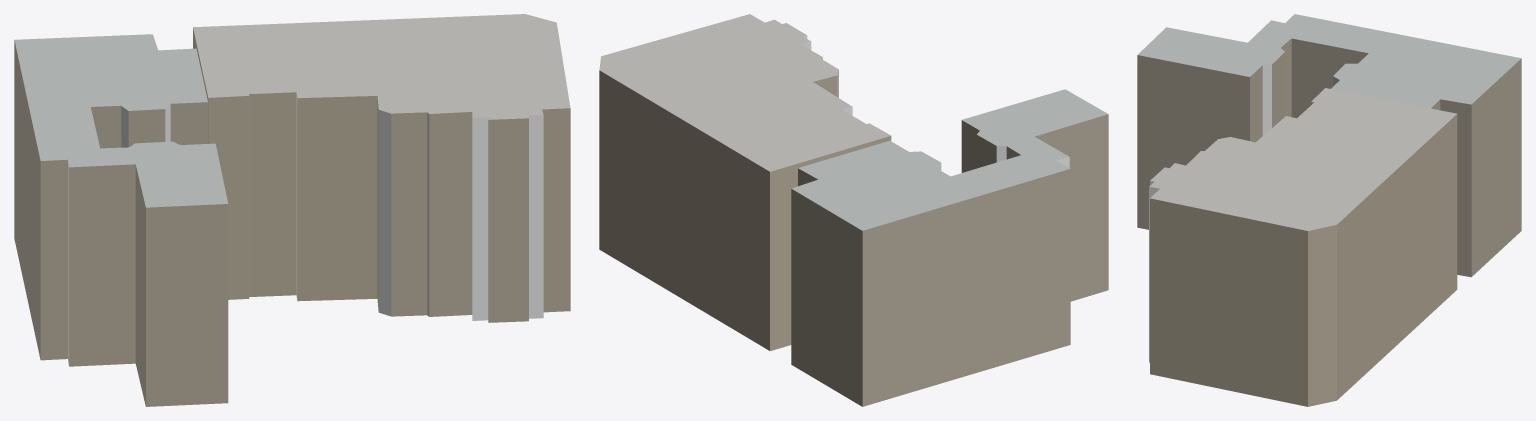
The picture shows the model from 3 angles, left to right: view 1: azimuth 30°, elevation 25°; view 2: azimuth 150°, elevation 25°; view 3: azimuth 270°, elevation 25°; orthographic projection. The views are drawn at different scales.
Visible parts, largest first — view 1: tuile; view 2: tuile; view 3: tuile.
Boxes of the visible parts, <box> form: tuile: <box>14,14,570,406</box>; tuile: <box>599,14,1108,406</box>; tuile: <box>1137,14,1521,406</box>.
Size of the model in its own units: 67 by 24.98 by 49.1.
